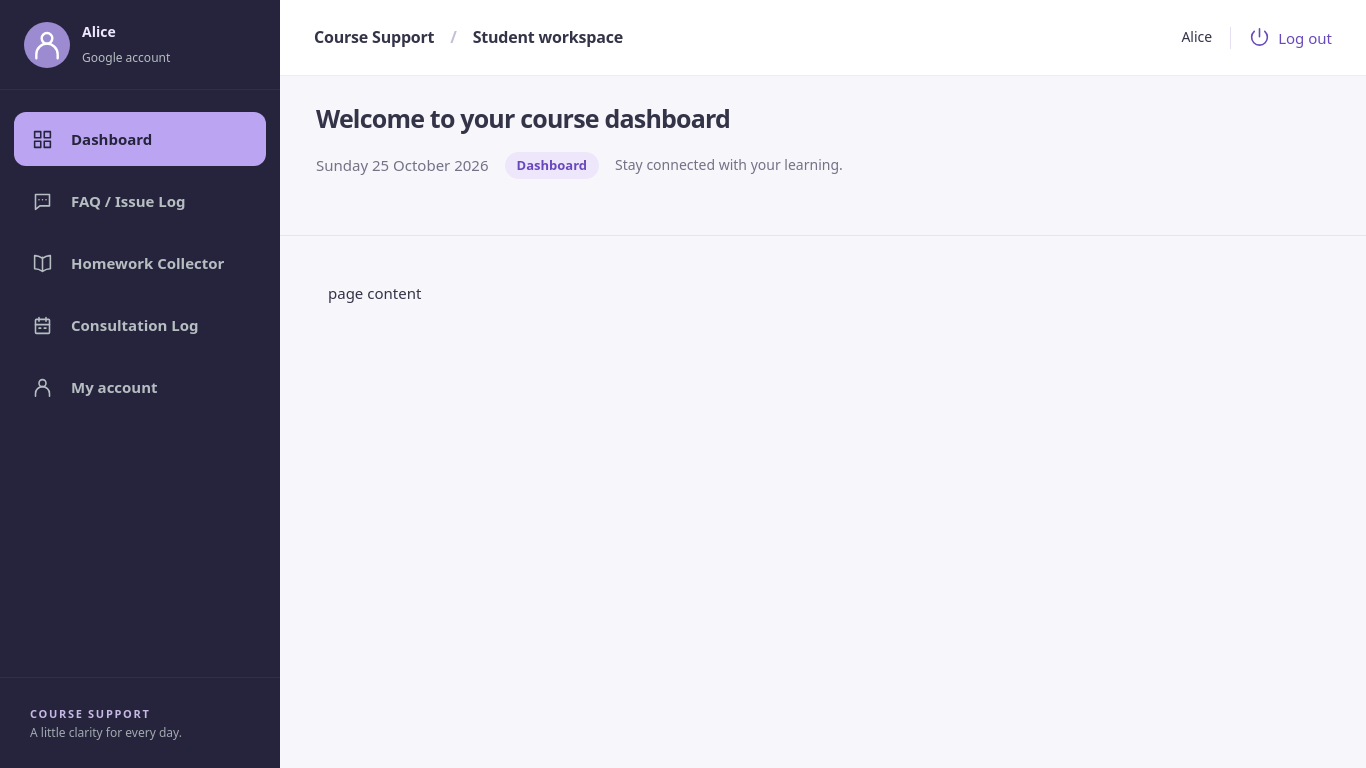
Scenario: AppShell (signed in) › lists Google Classroom courses in the account dialog when present
The width and height of the screenshot is (1366, 768).
What coordinates should you click on to do the following:
click the button "My account"
I would click on:
 (140, 387)
Its box is x1=14 y1=360 x2=266 y2=414.
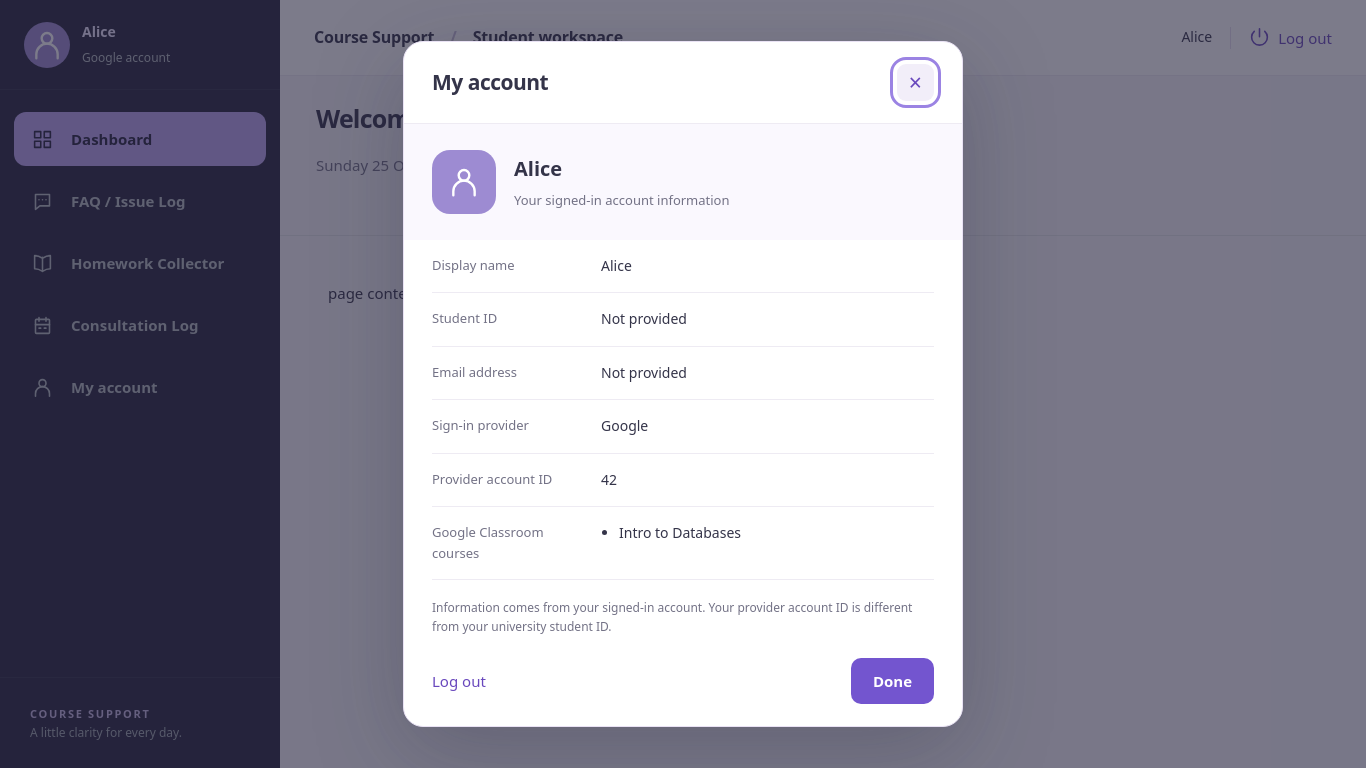
Result: the list item "Intro to Databases" is shown at x1=619 y1=523 x2=741 y2=542
